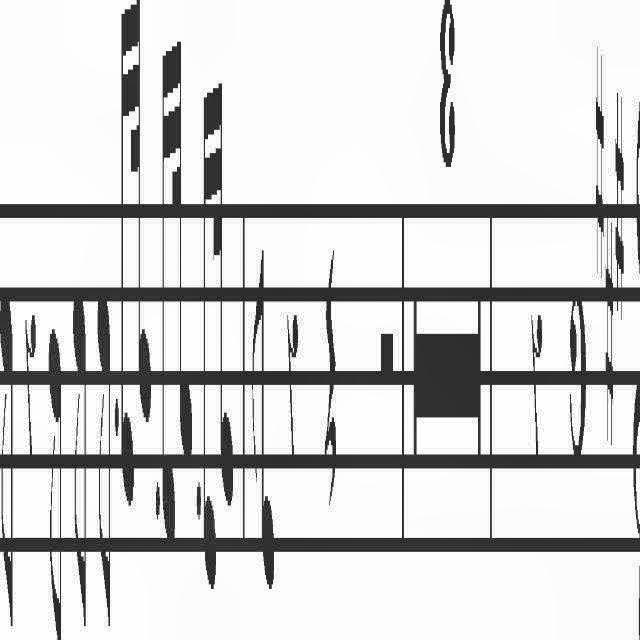Bass-clef: (630, 23, 640, 640)
Diez: (614, 67, 626, 313), (604, 228, 616, 444), (594, 67, 606, 279)
Eighth-note: (250, 245, 278, 609), (70, 276, 90, 634), (46, 310, 64, 640), (0, 274, 16, 622), (95, 281, 111, 605)
Eighth-rest: (285, 277, 301, 487), (528, 282, 544, 482), (23, 276, 37, 474)
Quarter-rest: (322, 214, 338, 556)
Sixteenth-note: (202, 75, 216, 609), (120, 11, 134, 516), (162, 26, 174, 558)
